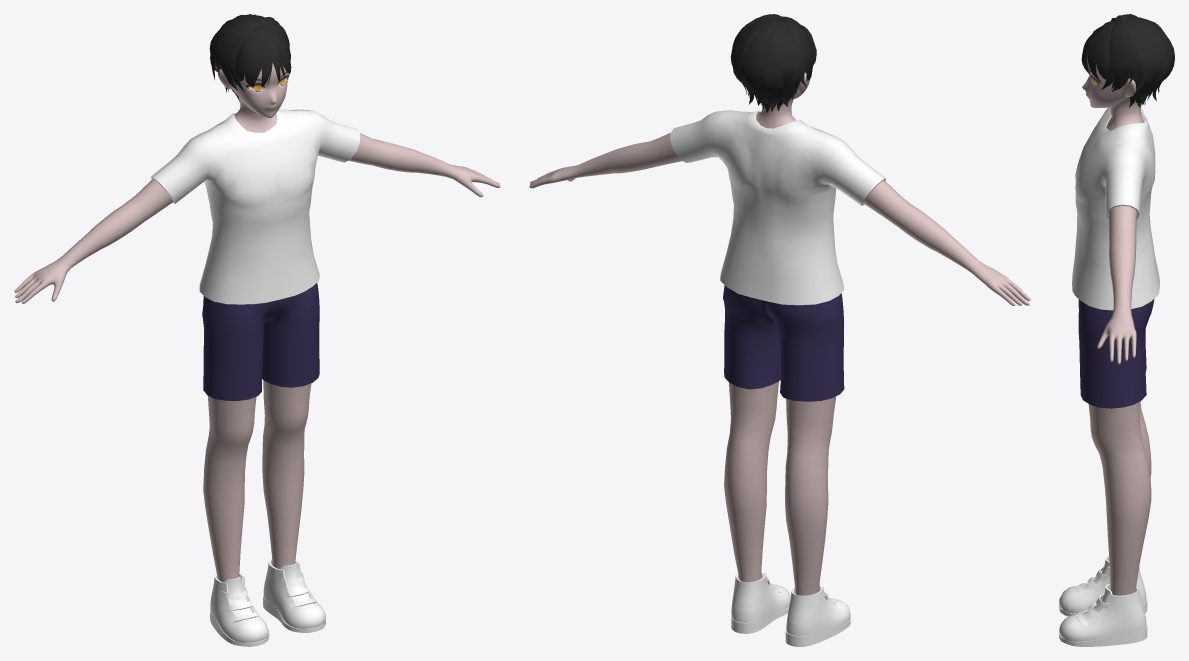
Rendered from Average_Weight.fbx.
The picture shows the model from 3 angles, left to right: view 1: azimuth 30°, elevation 25°; view 2: azimuth 150°, elevation 25°; view 3: azimuth 270°, elevation 25°; orthographic projection. The views are drawn at different scales.
Visible parts, largest first — view 1: Box010, Object047, Object048, Object049, Object022, Object025; view 2: Object047, Box010, Object048, Object049, Object041, Object025, Object040; view 3: Box010, Object047, Object048, Object049, Object025, Object041, Object022, Object040.
Boxes of the visible parts, x1=… form: Box010: x1=14, y1=63, x2=500, y2=582; Object047: x1=151, y1=109, x2=360, y2=304; Object048: x1=202, y1=283, x2=319, y2=400; Object049: x1=210, y1=558, x2=325, y2=646; Object022: x1=235, y1=26, x2=291, y2=87; Object025: x1=210, y1=17, x2=289, y2=92; Object047: x1=670, y1=110, x2=885, y2=305; Box010: x1=529, y1=72, x2=1030, y2=595; Object048: x1=723, y1=285, x2=844, y2=401; Object049: x1=731, y1=568, x2=850, y2=646; Object041: x1=730, y1=18, x2=801, y2=96; Object025: x1=732, y1=14, x2=813, y2=87; Object040: x1=740, y1=64, x2=806, y2=110; Box010: x1=1082, y1=56, x2=1151, y2=595; Object047: x1=1072, y1=107, x2=1159, y2=310; Object048: x1=1078, y1=299, x2=1154, y2=408; Object049: x1=1059, y1=556, x2=1147, y2=646; Object025: x1=1101, y1=14, x2=1146, y2=93; Object041: x1=1123, y1=16, x2=1174, y2=88; Object022: x1=1081, y1=20, x2=1114, y2=83; Object040: x1=1129, y1=59, x2=1163, y2=105.
Size of the model in its own units: 103 by 121 by 20.98.
